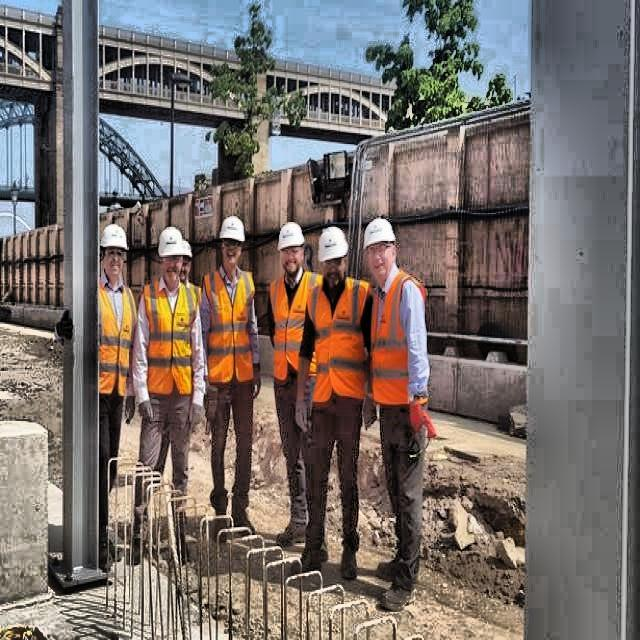person: (137, 225, 206, 557)
